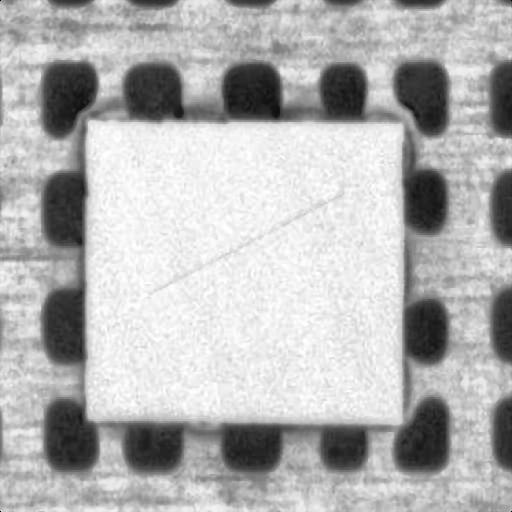DIE_CRACK: (195, 144, 454, 220)
